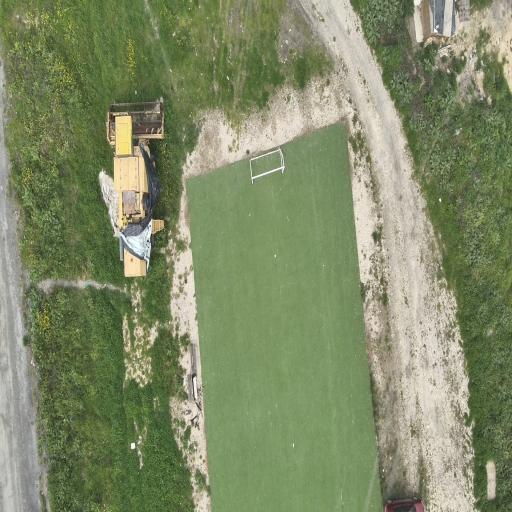car: (384, 498, 424, 511)
harvester: (107, 101, 163, 276)
